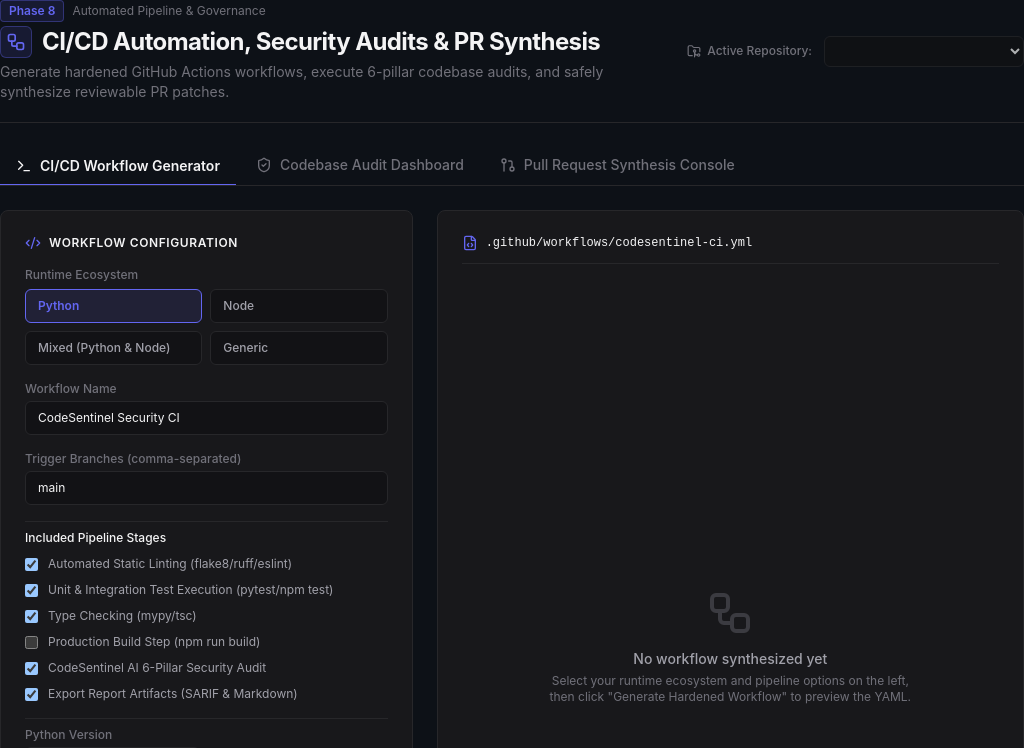
Phase 8 CiCdAuditPage Console › renders empty state when no audit records exist for repository
Click the button "Codebase Audit Dashboard".
click(360, 166)  # box x1=240 y1=147 x2=480 y2=185
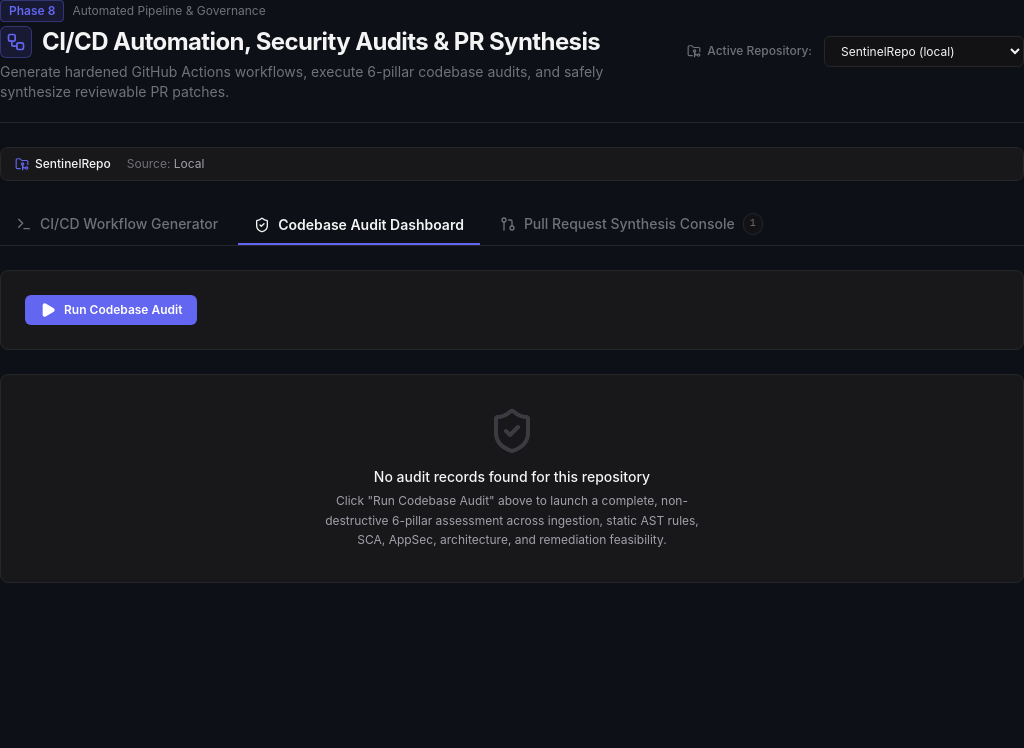
Check: the text "No audit records found for this repository" is shown, box x1=374 y1=468 x2=650 y2=485
